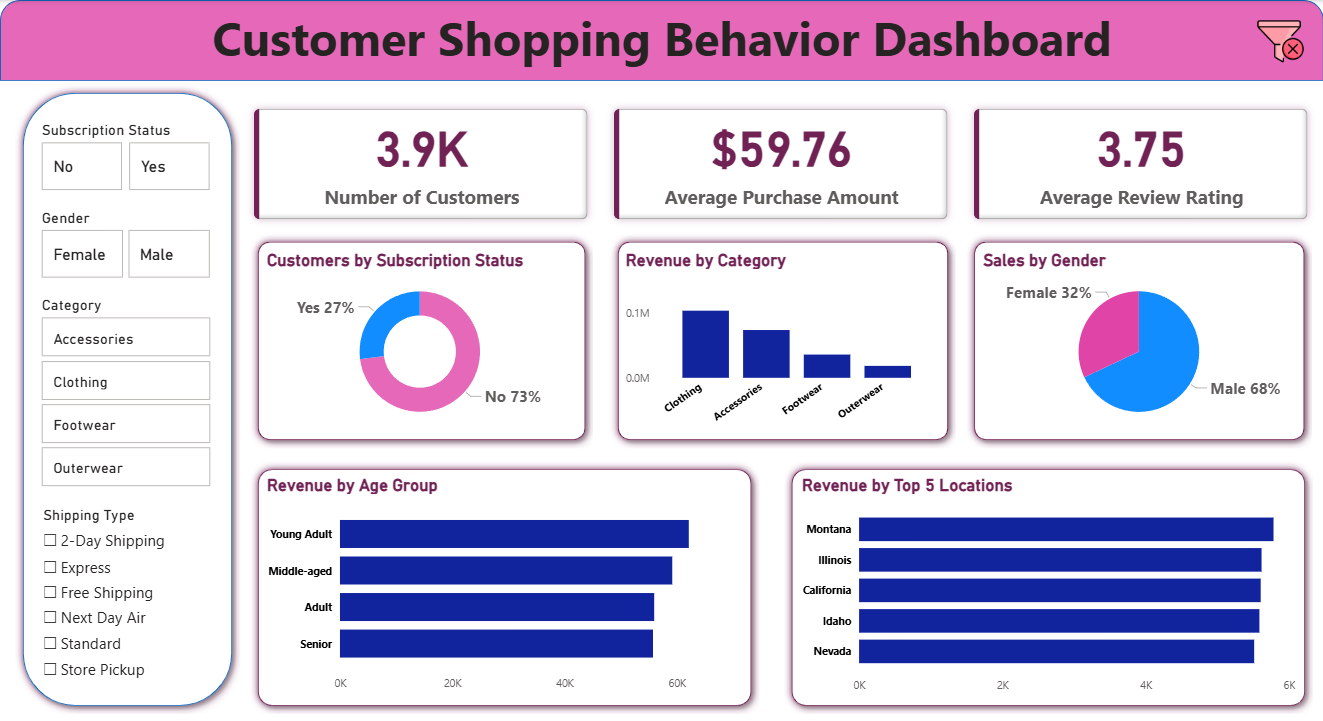

The dashboard page shown, as its layout file describes it:
{"tool":"powerbi","page":{"name":"Page 1","canvas":[1500,820],"ordinal":0},"visuals":[{"type":"cardVisual","fields":{"Data":["customer.Number of Customers","customer.Average Purchase Amount","customer.Average Review Rating"]},"box":[271.8,107.7,1228.6,157.6],"z":0},{"type":"shape","box":[0,0,1500.3,91.7],"z":1000},{"type":"textbox","box":[51.5,1.6,1399,91.7],"z":2000},{"type":"shape","box":[283,265.3,389.2,242.8],"z":3000},{"type":"donutChart","title":"% of Customers by Subscription Status","fields":{"Category":["customer.subscription_status"],"Y":["CountNonNull(customer.customer_id)"]},"box":[297.5,283,357,209],"z":4000},{"type":"shape","box":[691.5,265.3,392.4,242.8],"z":5000},{"type":"shape","box":[1095.1,265.3,392.4,242.8],"z":6000},{"type":"clusteredColumnChart","title":"Revenue by Category","fields":{"Y":["Sum(customer.purchase_amount)"],"Category":["customer.category"]},"box":[704.3,283,363.4,209],"z":7000},{"type":"clusteredColumnChart","title":"Sales by Category","fields":{"Y":["CountNonNull(customer.customer_id)"],"Category":["customer.category"]},"box":[1109.6,283,363.4,209],"z":8000},{"type":"shape","box":[17.4,96.2,217.1,712.4],"z":9000},{"type":"advancedSlicerVisual","fields":{"Values":["customer.subscription_status"]},"box":[43.1,138,165.6,74],"z":10000},{"type":"advancedSlicerVisual","fields":{"Values":["customer.gender"]},"box":[43.1,236.6,165.6,74],"z":11000},{"type":"advancedSlicerVisual","fields":{"Values":["customer.category"]},"box":[43.1,335.2,165.6,213.9],"z":12000},{"type":"listSlicer","fields":{"Values":["customer.shipping_type"]},"box":[46.3,573.8,162.4,207.4],"z":13000},{"type":"shape","box":[283,522.6,591.8,242.8],"z":14000},{"type":"shape","box":[887.7,522.6,599.8,242.8],"z":15000},{"type":"clusteredBarChart","title":"Revenue by Age Group","fields":{"Y":["Sum(customer.purchase_amount)"],"Category":["customer.age_group"]},"box":[297.5,537.1,562.8,217.1],"z":16000},{"type":"clusteredBarChart","title":"Revenue by Top 5 Locations","fields":{"Y":["Sum(customer.purchase_amount)"],"Category":["customer.location"]},"box":[903.7,535.5,569.3,217.1],"z":17000}]}

Visuals, with their boxes in screenshot pixels (x1, y1, x2, y2), scaled from the page's 1500x820 canvas onto the 1323x721 screenshot:
cardVisual - customer.Number of Customers x customer.Average Purchase Amount: 240:95:1322:233
shape: 0:0:1322:81
textbox: 45:1:1279:82
shape: 250:233:593:447
"% of Customers by Subscription Status" donutChart: 262:249:577:433
shape: 610:233:956:447
shape: 966:233:1312:447
"Revenue by Category" clusteredColumnChart: 621:249:942:433
"Sales by Category" clusteredColumnChart: 979:249:1299:433
shape: 15:85:207:711
advancedSlicerVisual - customer.subscription_status: 38:121:184:186
advancedSlicerVisual - customer.gender: 38:208:184:273
advancedSlicerVisual - customer.category: 38:295:184:483
listSlicer - customer.shipping_type: 41:505:184:687
shape: 250:460:772:673
shape: 783:460:1312:673
"Revenue by Age Group" clusteredBarChart: 262:472:759:663
"Revenue by Top 5 Locations" clusteredBarChart: 797:471:1299:662
